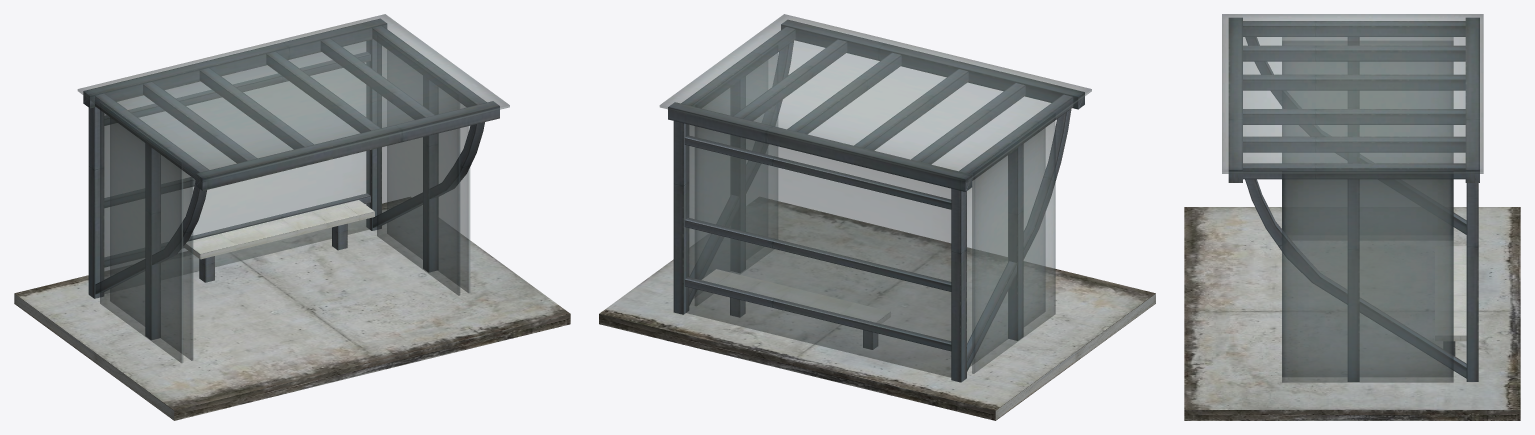
The model's file is busstop.glb.
The picture shows the model from 3 angles, left to right: view 1: azimuth 30°, elevation 25°; view 2: azimuth 150°, elevation 25°; view 3: azimuth 270°, elevation 25°; orthographic projection. The views are drawn at different scales.
Parts seen in each view (by area): view 1: m; view 2: m; view 3: m.
Part boxes in pixels (left/top/right/bottom): m: left=14, top=14, right=570, bottom=420; m: left=599, top=14, right=1155, bottom=420; m: left=1184, top=14, right=1520, bottom=420.
Bounding box in the file's own units: 5.18 × 2.7 × 3.62.
3 materials, 3 textured.
